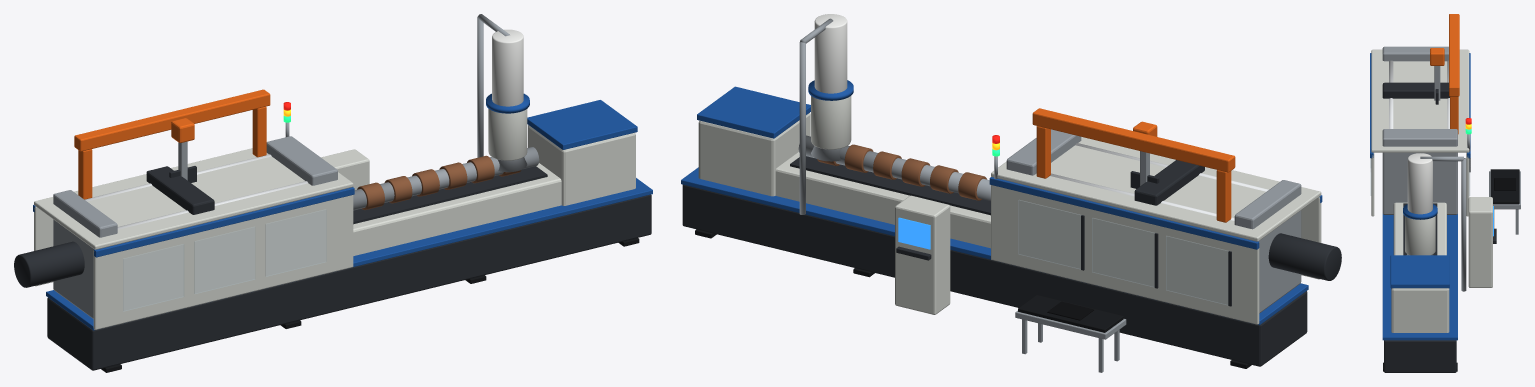
File: injection_machine.glb
3 views of the same model, side by side, from view 1: azimuth 30°, elevation 25°; view 2: azimuth 150°, elevation 25°; view 3: azimuth 270°, elevation 25° (orthographic). The views are drawn at different scales.
Visible parts, largest first — view 1: injection_machine; view 2: injection_machine; view 3: injection_machine.
Boxes of the visible parts, x1=… form: injection_machine: x1=14, y1=14, x2=652, y2=372; injection_machine: x1=681, y1=14, x2=1341, y2=372; injection_machine: x1=1370, y1=14, x2=1520, y2=372.
Bounding box in the file's own units: 11.5 × 3.95 × 3.12.
